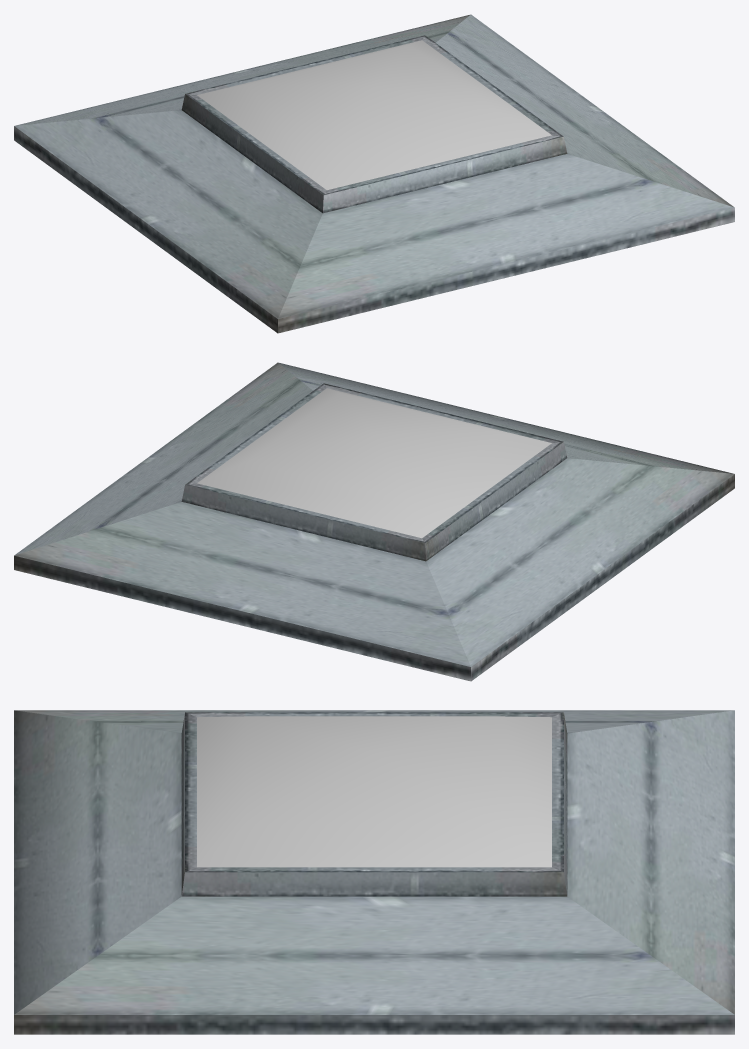
File: roof_window1.fbx
3 views of the same model, one above another, from view 1: azimuth 30°, elevation 25°; view 2: azimuth 150°, elevation 25°; view 3: azimuth 270°, elevation 25° (orthographic). The views are drawn at different scales.
Parts seen in each view (by area): view 1: roof_window1; view 2: roof_window1; view 3: roof_window1.
Part boxes in pixels (x1,y1,x2,y2): roof_window1: (14, 14, 734, 333); roof_window1: (14, 362, 734, 681); roof_window1: (14, 710, 734, 1034).
Bounding box in the file's own units: 406 × 80.42 × 406.
